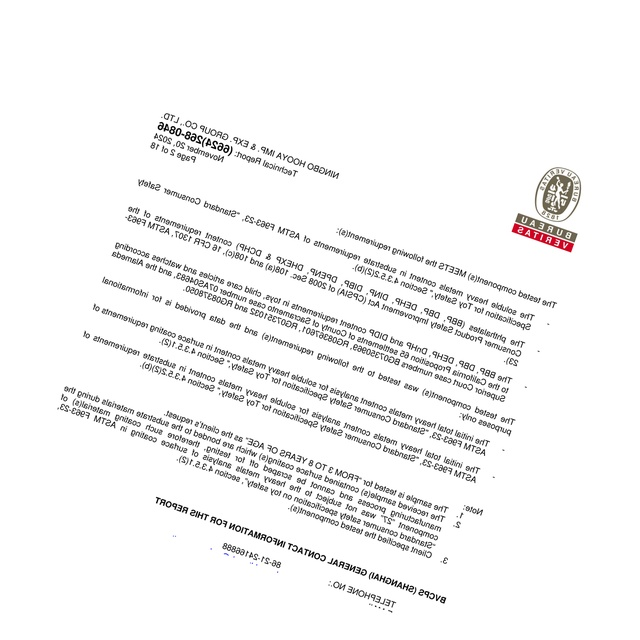bureau_veritas: (511, 165, 582, 255)
